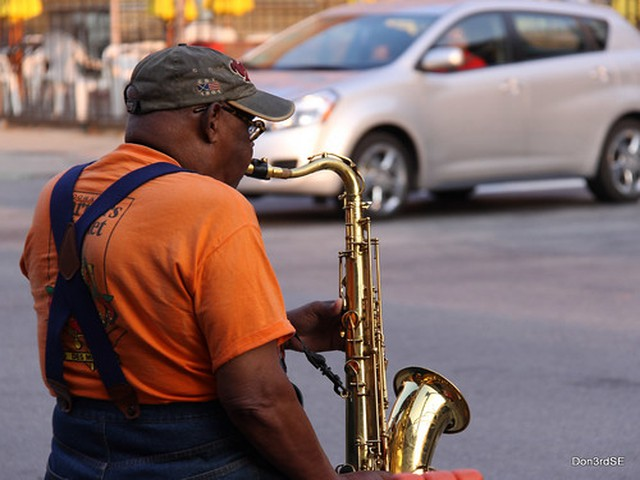Person: (23, 33, 353, 466)
